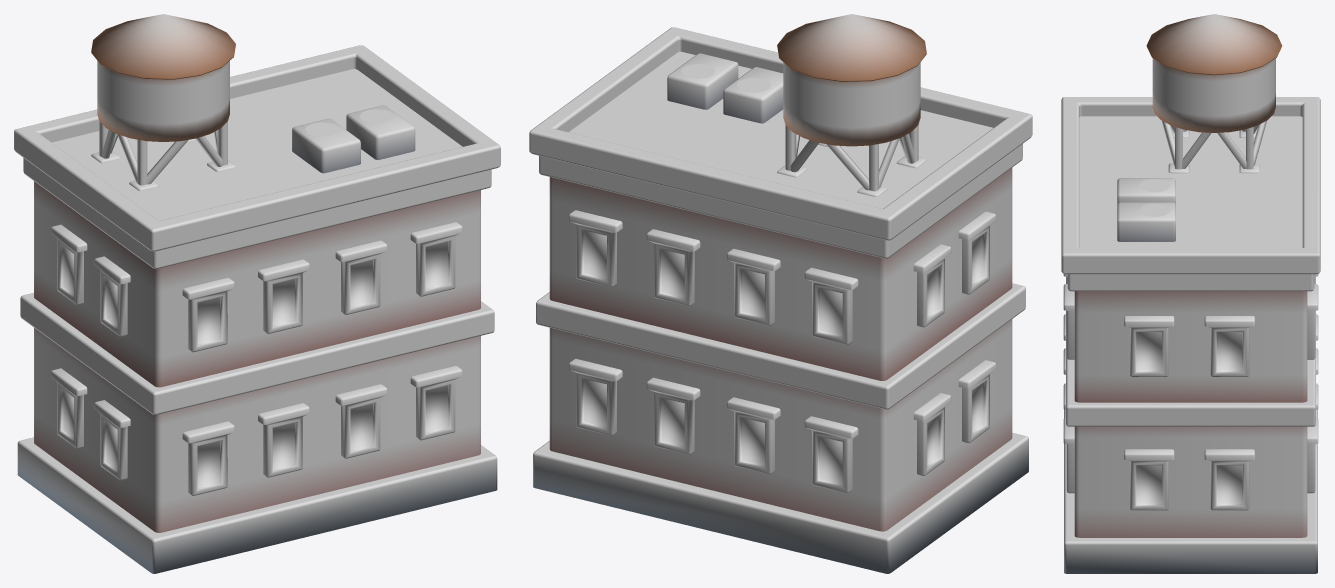
File: NF_Bld_House 41.fbx
The picture shows the model from 3 angles, left to right: view 1: azimuth 30°, elevation 25°; view 2: azimuth 150°, elevation 25°; view 3: azimuth 270°, elevation 25°; orthographic projection. The views are drawn at different scales.
Visible parts, largest first — view 1: House_41; view 2: House_41; view 3: House_41.
Part boxes in pixels (x1,y1,x2,y2): House_41: [14, 14, 500, 573]; House_41: [529, 14, 1032, 573]; House_41: [1061, 14, 1320, 573].
Bounding box in the file's own units: 9.67 × 12.65 × 6.67.
